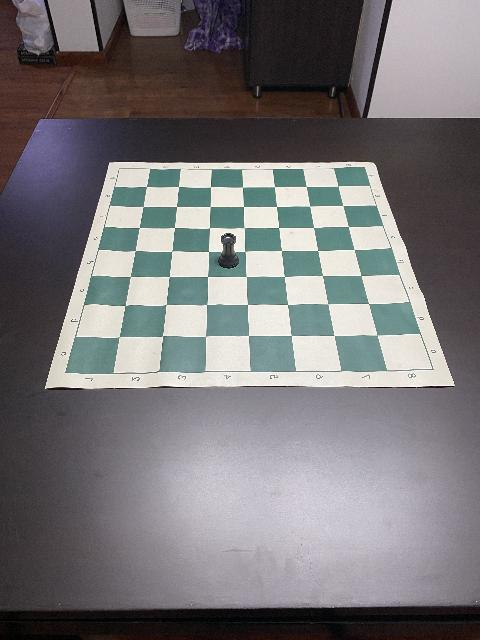black-rook: (218, 232, 240, 268)
board: (45, 162, 455, 390)
